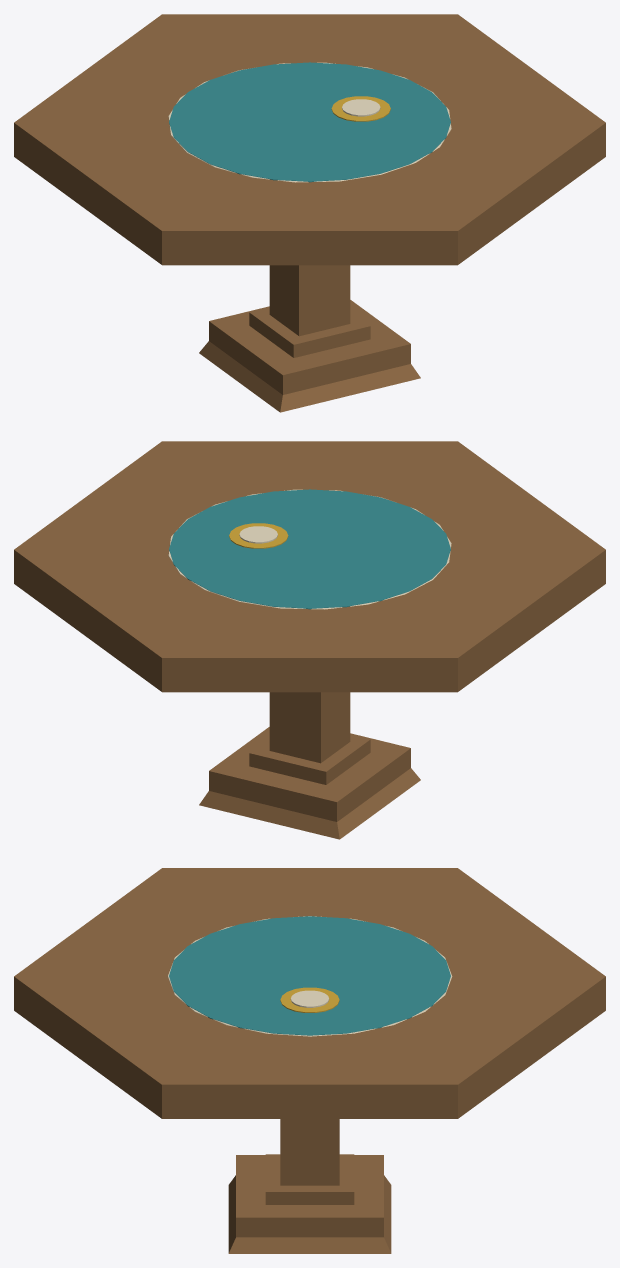
File: tableRound.glb
The picture shows the model from 3 angles, top to bottom: view 1: azimuth 30°, elevation 25°; view 2: azimuth 150°, elevation 25°; view 3: azimuth 270°, elevation 25°; orthographic projection.
Parts seen in each view (by area): view 1: tableRound(Clone); view 2: tableRound(Clone); view 3: tableRound(Clone).
Part boxes in pixels (x1=…): tableRound(Clone): x1=14, y1=14, x2=605, y2=412; tableRound(Clone): x1=14, y1=441, x2=605, y2=839; tableRound(Clone): x1=14, y1=868, x2=605, y2=1253.
Size of the model in its own units: 0.6928 by 0.3667 by 0.8.
